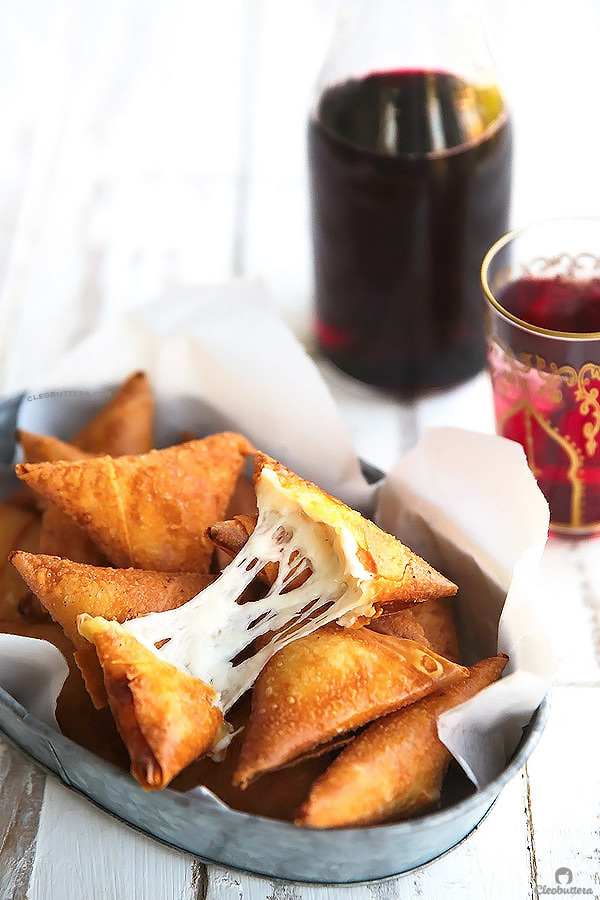samosa: (296, 650, 536, 838), (234, 618, 464, 798), (16, 426, 250, 548), (76, 612, 224, 784), (12, 550, 204, 618), (78, 370, 160, 450)
